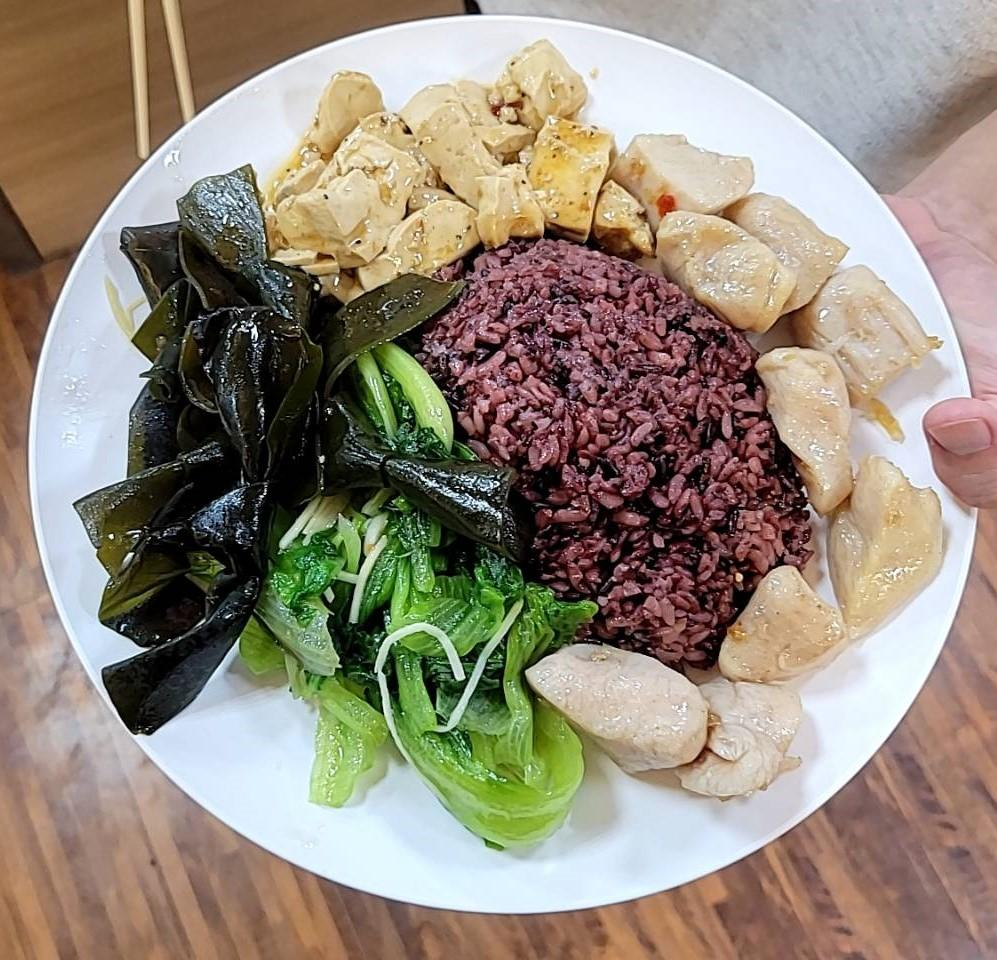big fried chicken leg: (16, 18, 997, 909)
braised fish: (434, 242, 799, 663)
braised fish fillet: (77, 170, 519, 751), (248, 501, 591, 845), (271, 40, 648, 284)
braised pork: (587, 120, 943, 807)
